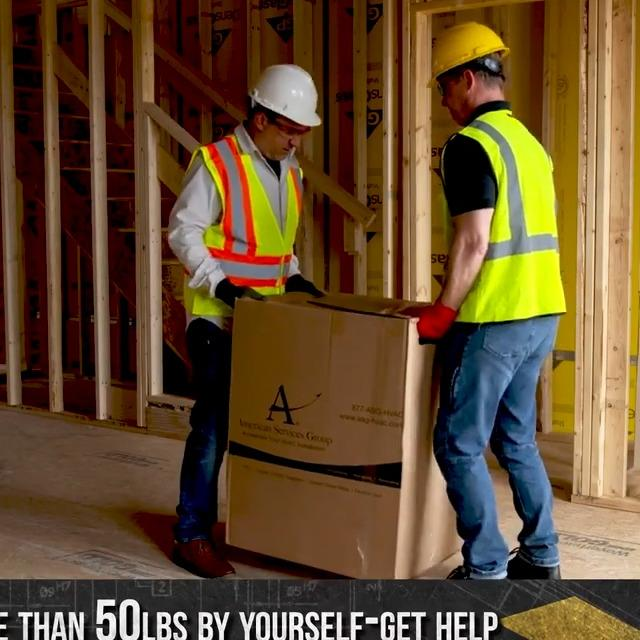Gloves: (417, 301, 460, 345), (215, 278, 249, 307), (285, 273, 324, 297)
Hardhat: (427, 21, 510, 90), (248, 63, 322, 126)
NO-Mask: (262, 138, 298, 161), (444, 99, 474, 124)
Person: (415, 18, 566, 578), (165, 63, 323, 576)
Safety Vest: (440, 108, 568, 317), (178, 131, 303, 316)
